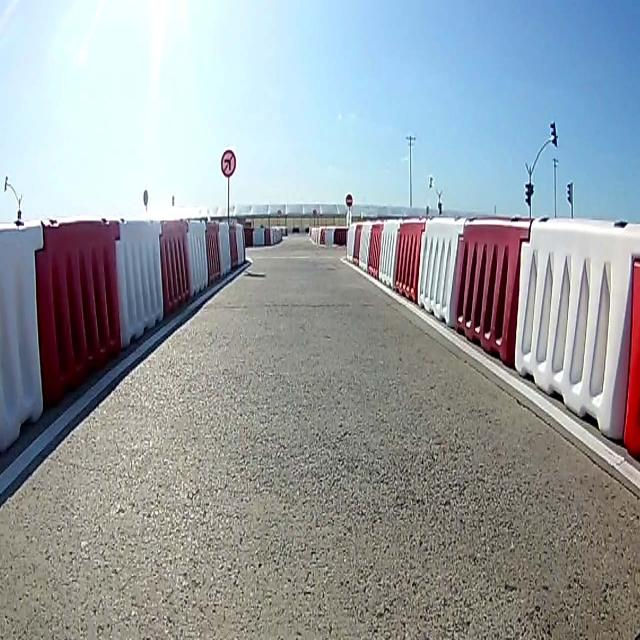girisyok: (345, 193, 354, 206)
soladonulmez: (220, 147, 237, 177)
